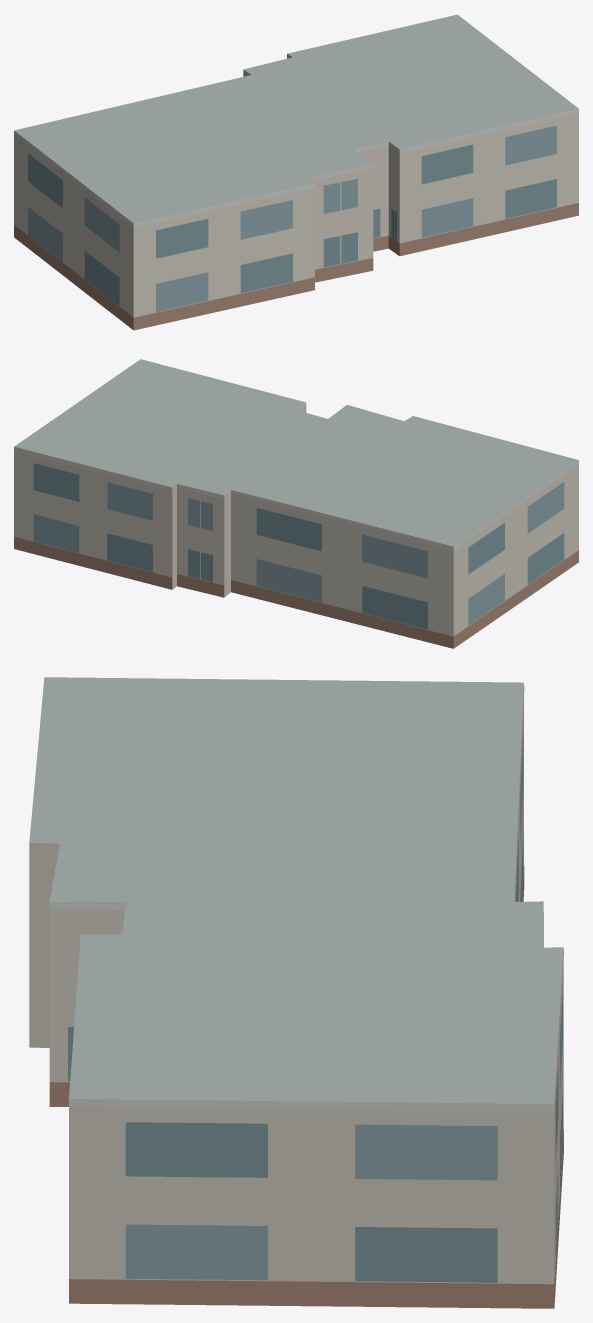
Rendered from survey-upis-32849226.glb.
3 renders of one model, top to bottom at view 1: azimuth 30°, elevation 25°; view 2: azimuth 150°, elevation 25°; view 3: azimuth 270°, elevation 25°, orthographic. The views are drawn at different scales.
Visible parts, largest first — view 1: survey-upis-32849226.tmp; view 2: survey-upis-32849226.tmp; view 3: survey-upis-32849226.tmp.
Boxes of the visible parts, x1,y1,x2,y2 form: survey-upis-32849226.tmp: (14, 14, 578, 330); survey-upis-32849226.tmp: (14, 359, 578, 648); survey-upis-32849226.tmp: (29, 677, 563, 1308).
Size of the model in its own units: 27.3 by 6.1 by 14.45.
